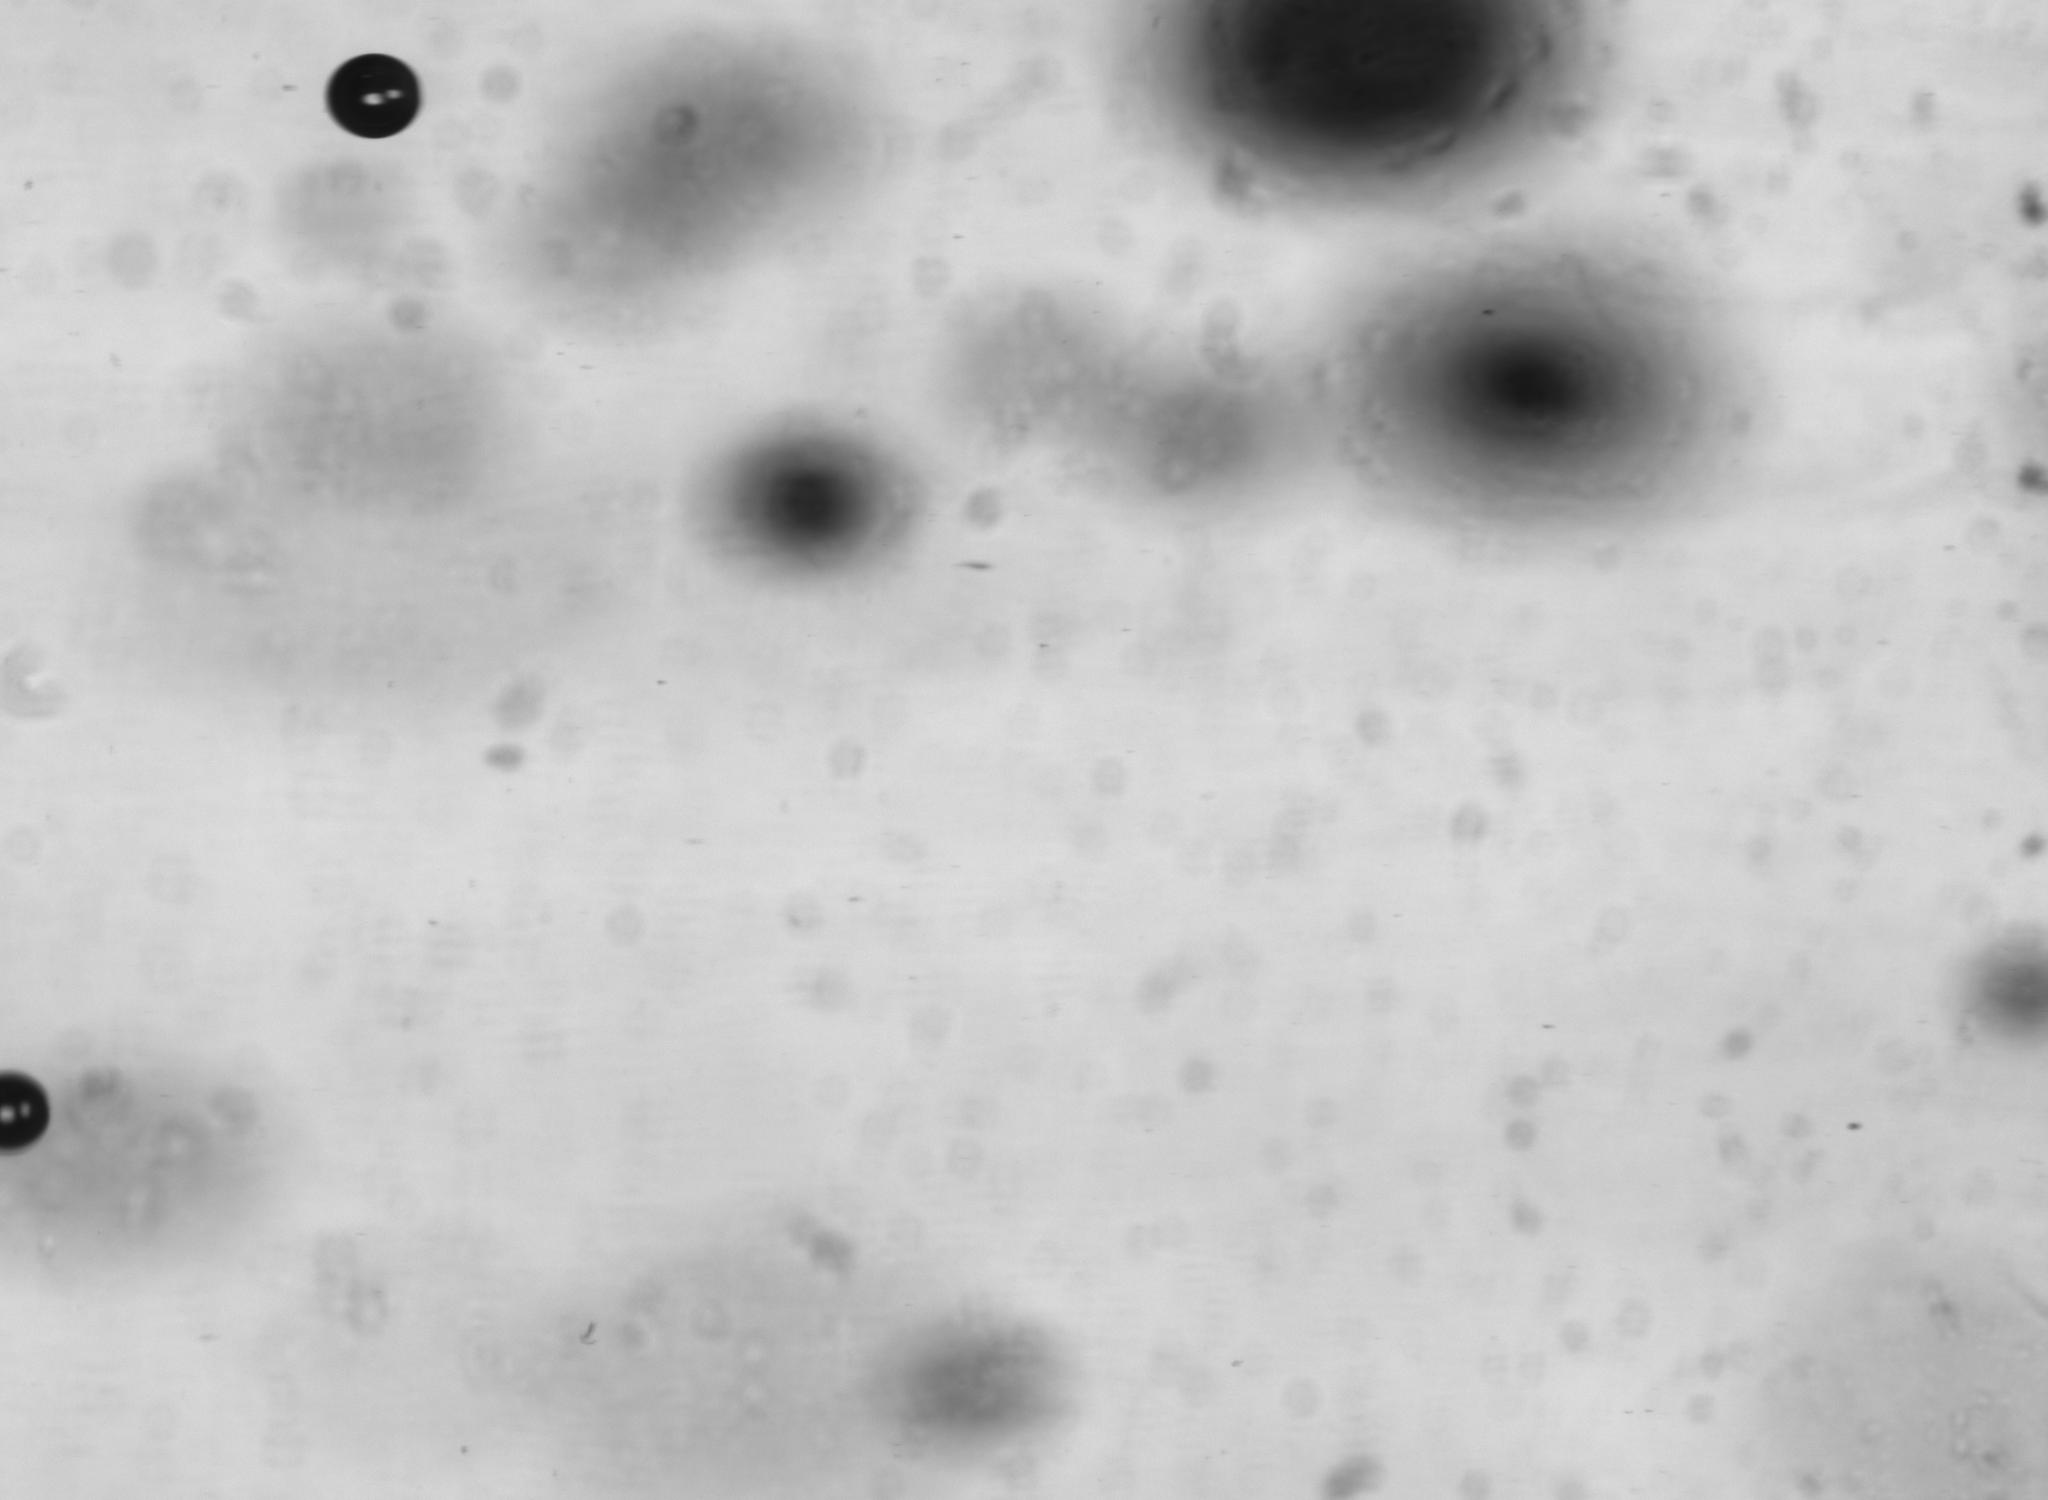bubble: (326, 54, 420, 138), (0, 1072, 49, 1152)
